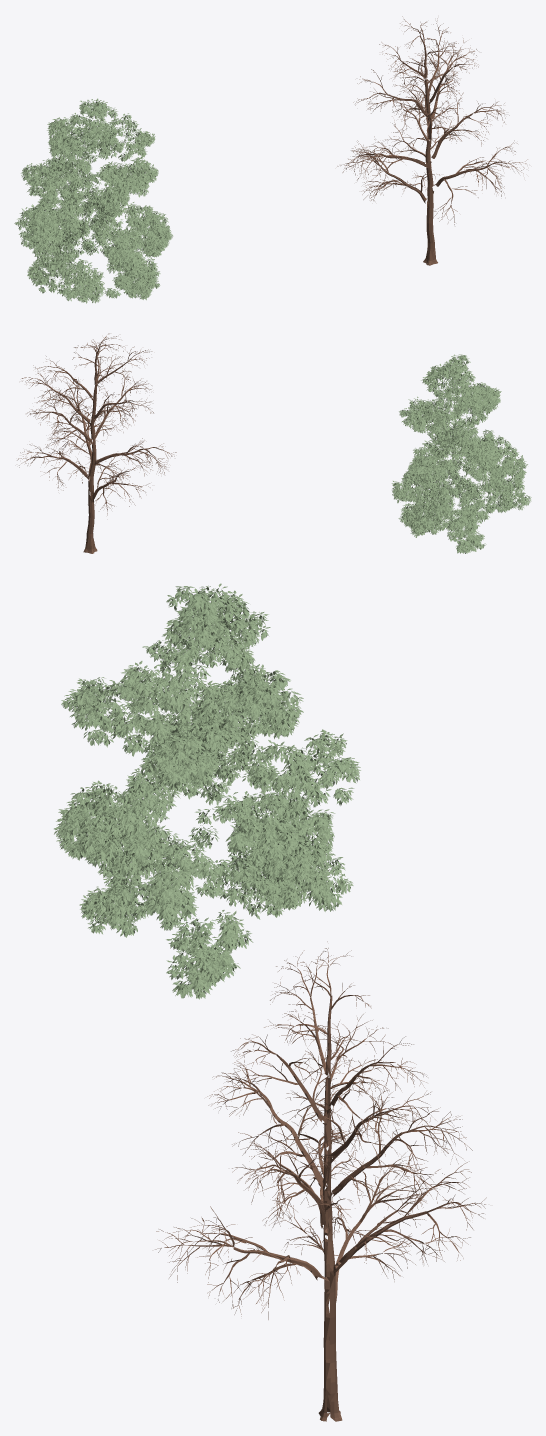
The model's file is lujiazui-8.glb.
The picture shows the model from 3 angles, top to bottom: view 1: azimuth 30°, elevation 25°; view 2: azimuth 150°, elevation 25°; view 3: azimuth 270°, elevation 25°; orthographic projection. The views are drawn at different scales.
Visible parts, largest first — view 1: source_4860_bark_part0, source_4859_leaf_part2, source_4859_leaf_part4, source_4859_leaf_part1, source_4859_leaf_part3, source_4859_leaf_part0, source_4859_leaf_part5; view 2: source_4860_bark_part0, source_4859_leaf_part2, source_4859_leaf_part4, source_4859_leaf_part0, source_4859_leaf_part3, source_4859_leaf_part1, source_4859_leaf_part5; view 3: source_4860_bark_part0, source_4859_leaf_part2, source_4859_leaf_part1, source_4859_leaf_part4, source_4859_leaf_part3, source_4859_leaf_part0, source_4859_leaf_part5.
Part boxes in pixels (box(x1,y1,x2,y2)): source_4860_bark_part0: box(337, 16, 527, 265); source_4859_leaf_part2: box(20, 99, 160, 299); source_4859_leaf_part4: box(15, 154, 171, 253); source_4859_leaf_part1: box(14, 157, 173, 274); source_4859_leaf_part3: box(19, 189, 167, 303); source_4859_leaf_part0: box(21, 215, 169, 302); source_4859_leaf_part5: box(48, 98, 155, 197); source_4860_bark_part0: box(17, 333, 176, 553); source_4859_leaf_part2: box(399, 354, 500, 553); source_4859_leaf_part4: box(392, 386, 527, 499); source_4859_leaf_part0: box(398, 448, 531, 553); source_4859_leaf_part3: box(391, 443, 531, 537); source_4859_leaf_part1: box(392, 405, 526, 512); source_4859_leaf_part5: box(399, 354, 501, 437); source_4860_bark_part0: box(155, 941, 486, 1421); source_4859_leaf_part2: box(61, 583, 303, 999); source_4859_leaf_part1: box(54, 698, 359, 887); source_4859_leaf_part4: box(76, 663, 360, 881); source_4859_leaf_part3: box(54, 775, 351, 937); source_4859_leaf_part0: box(79, 776, 353, 998); source_4859_leaf_part5: box(61, 586, 303, 740).
Bounding box in the file's own units: 21.78 × 11.35 × 8.98.
